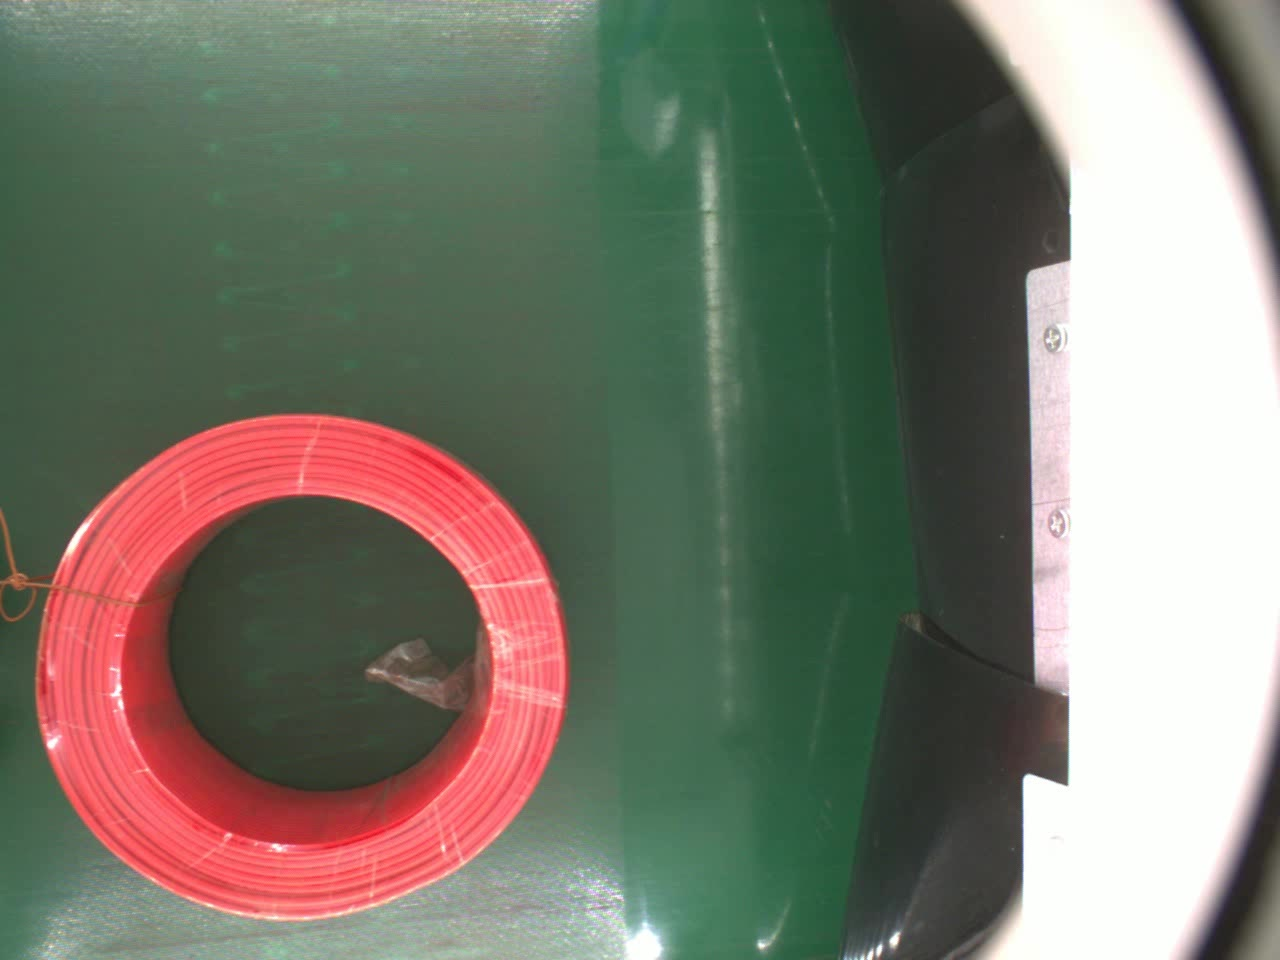red: (32, 411, 579, 920)
